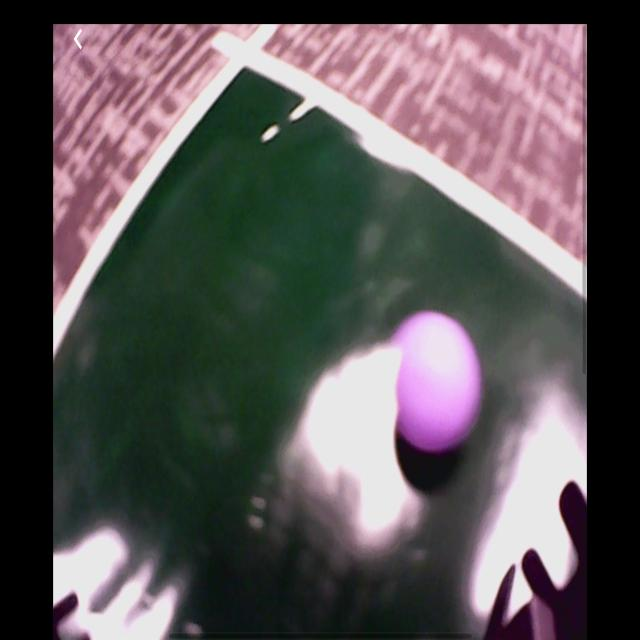ball: (389, 312, 480, 448)
